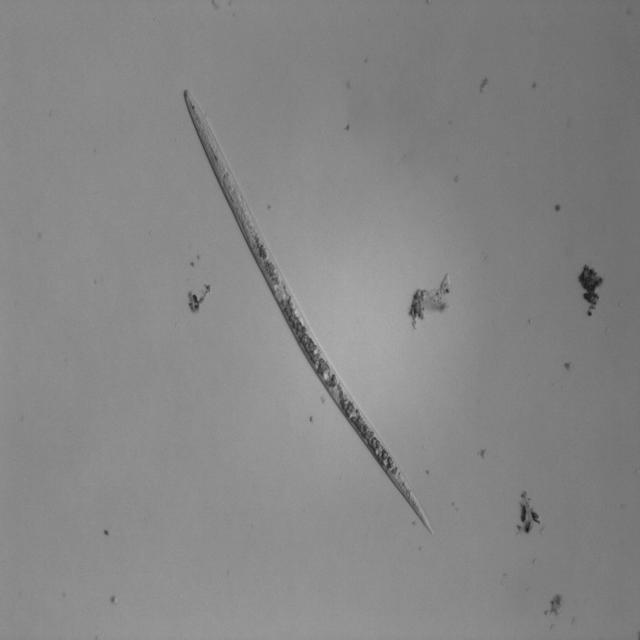Meloidogyne: (180, 76, 436, 534)
